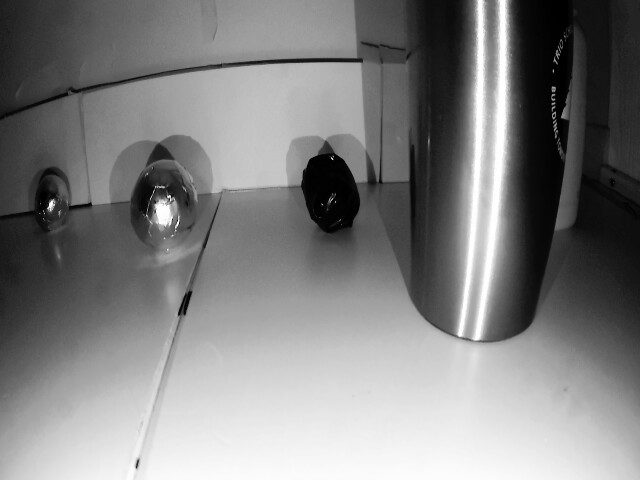black: (125, 153, 206, 254), (28, 170, 73, 226)
silver: (299, 146, 360, 230)
